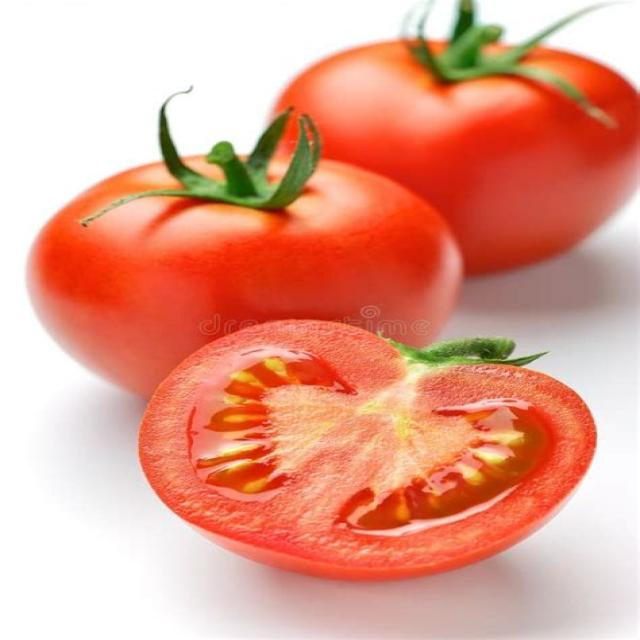Tomato: (25, 118, 467, 402), (138, 320, 596, 583), (269, 3, 640, 279)
